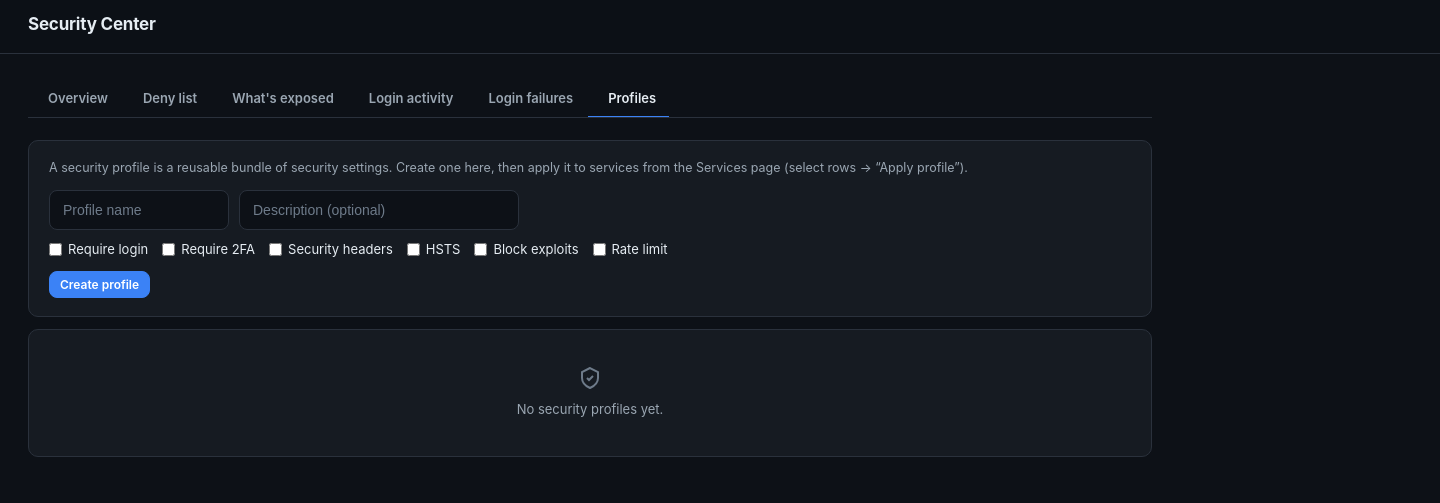
Scenario: SecurityCenter — profiles › confirms a create and surfaces a 'created' confirmation
This screenshot has width=1440, height=503.
Type "Hardened" into the field labelled "Profile name" at (139,210), box [49,190,229,230]
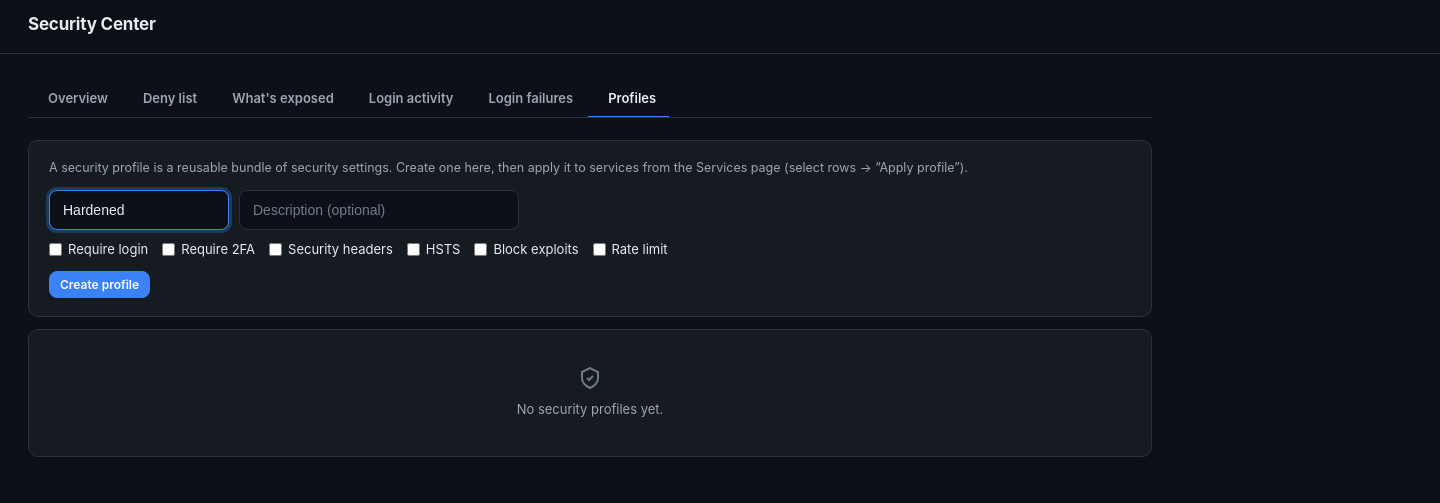
Click the button "Create profile" at (100,285), box [49,271,150,298]
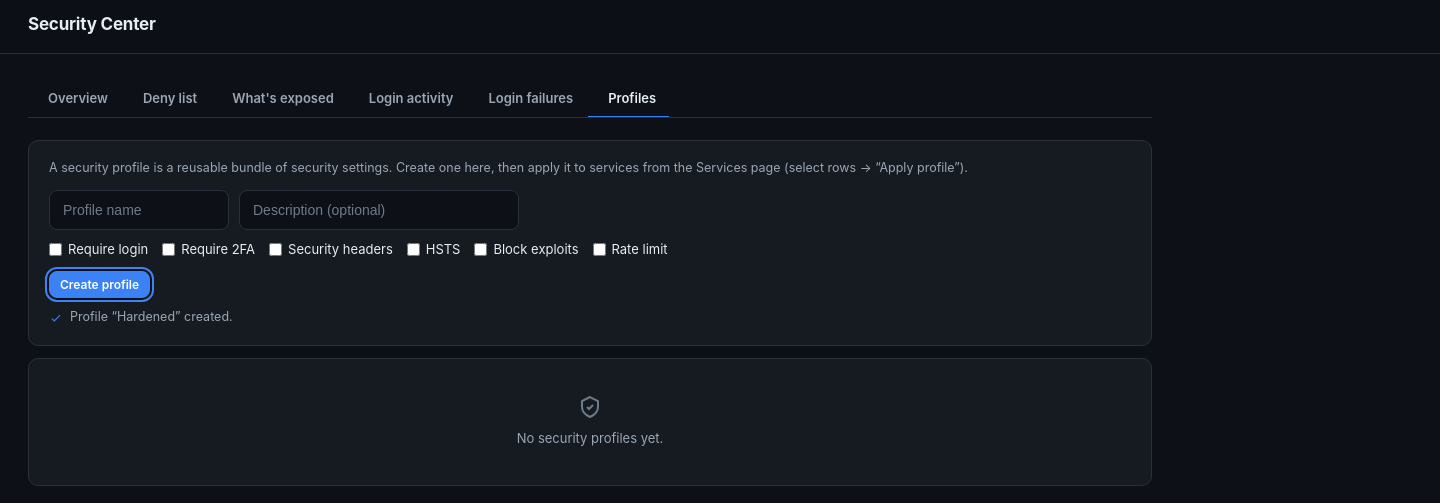
Expected: the text "Profile “Hardened” created." is shown, [49,309,233,325]
